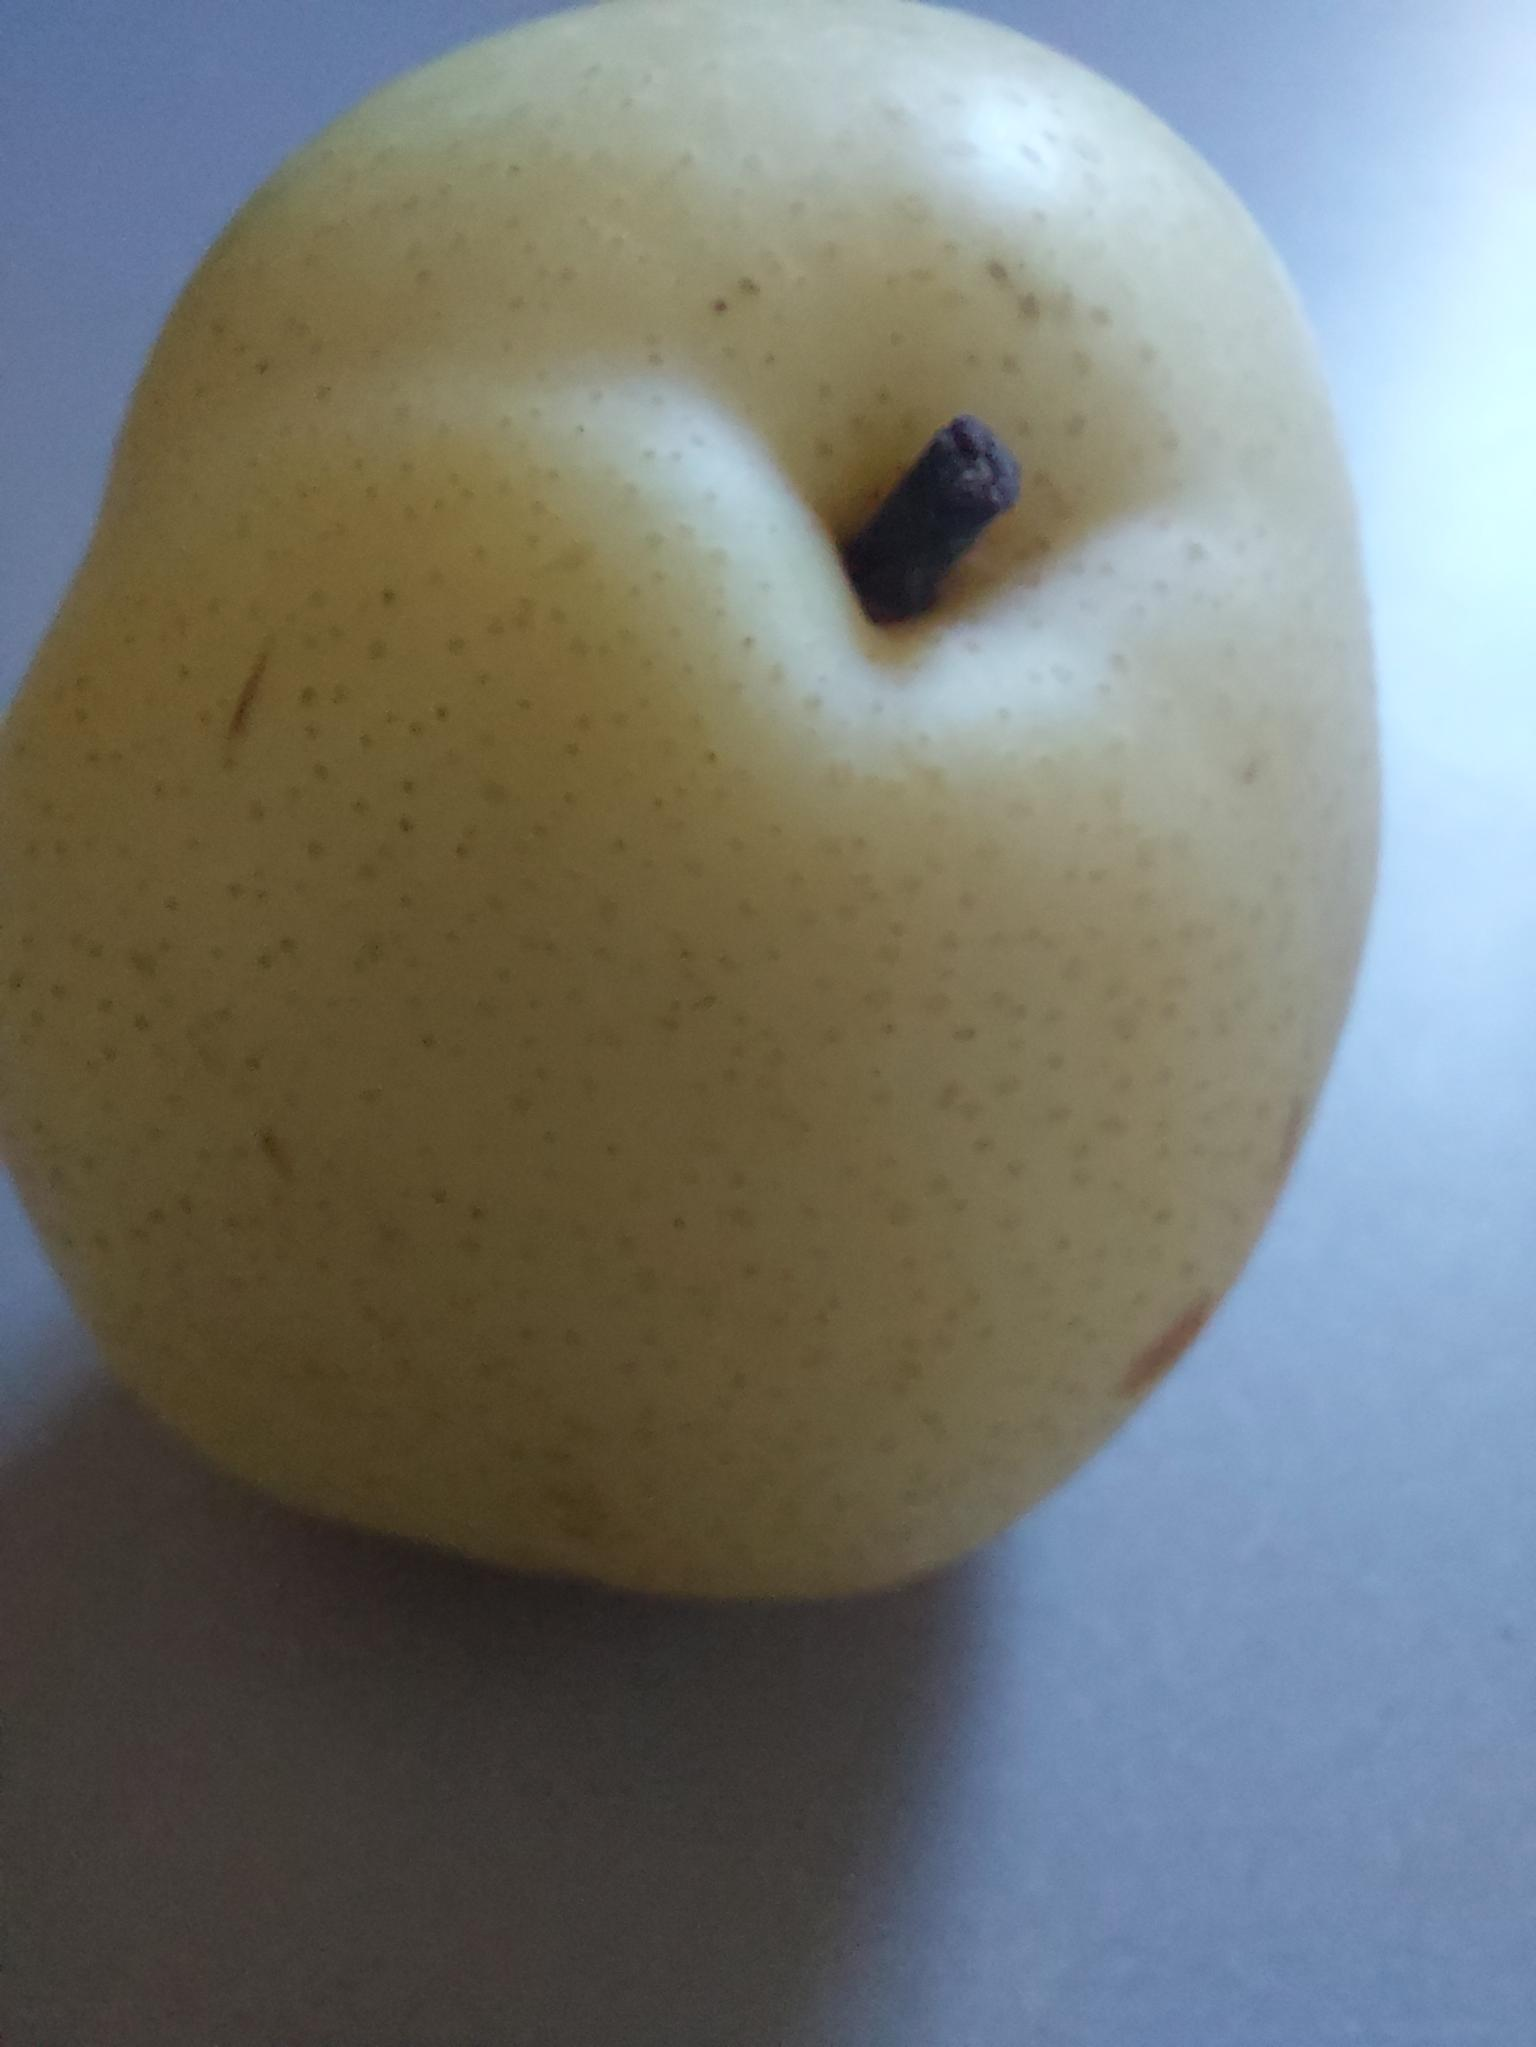Good Pear: (0, 0, 1536, 1684)
